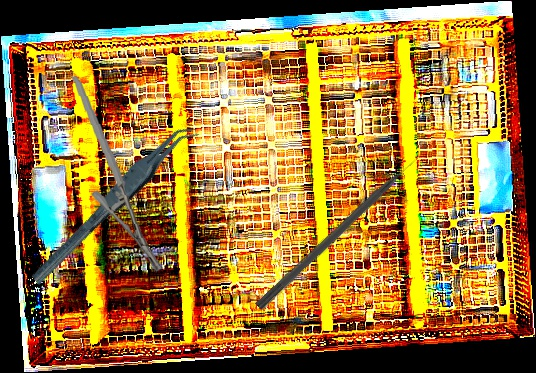Needle Holder: (71, 69, 165, 279)
Pusher: (254, 150, 427, 313)
Tissue Forceps: (14, 119, 213, 287)
